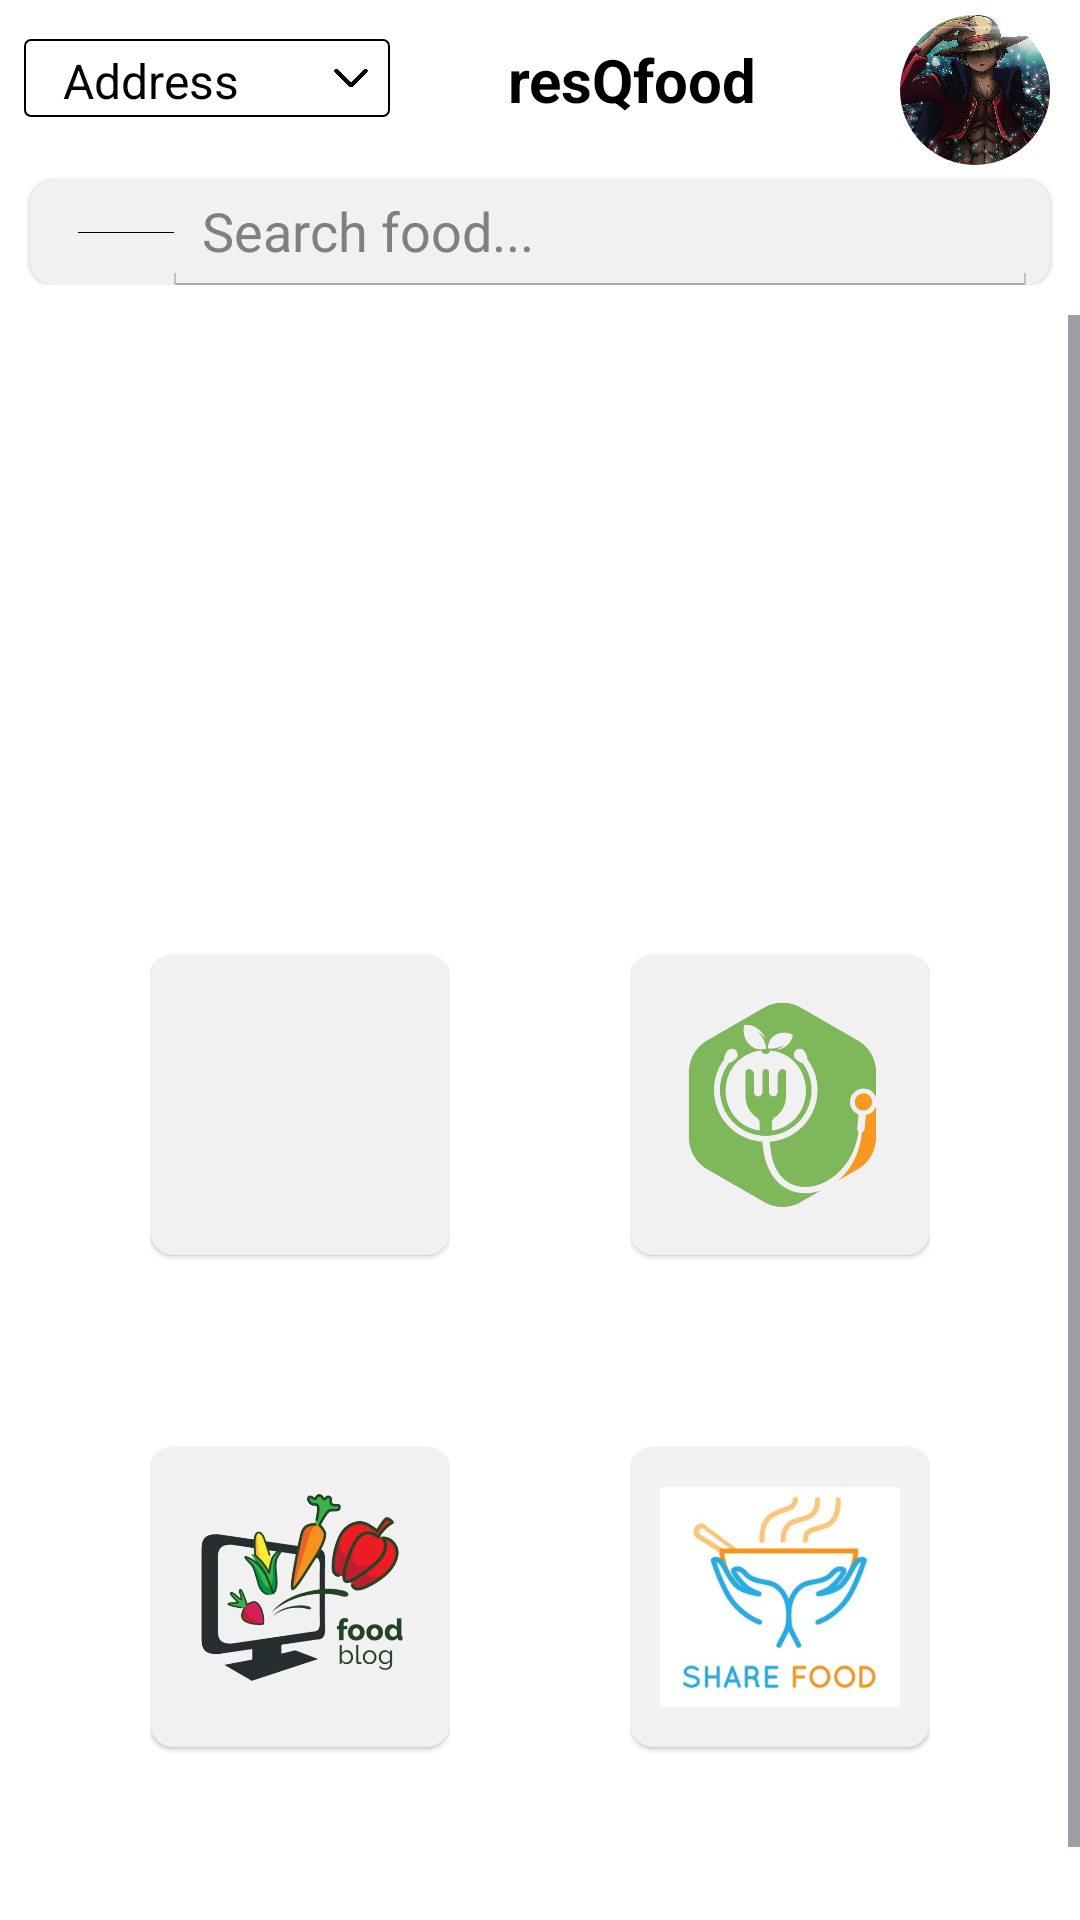

Icon bounding boxes for this 1080px×1920px phone screenshot, format box=[x1, y1, x2, y2]:
Dropdown Arrow: box=[334, 69, 368, 87]
plan: box=[630, 955, 930, 1255]
